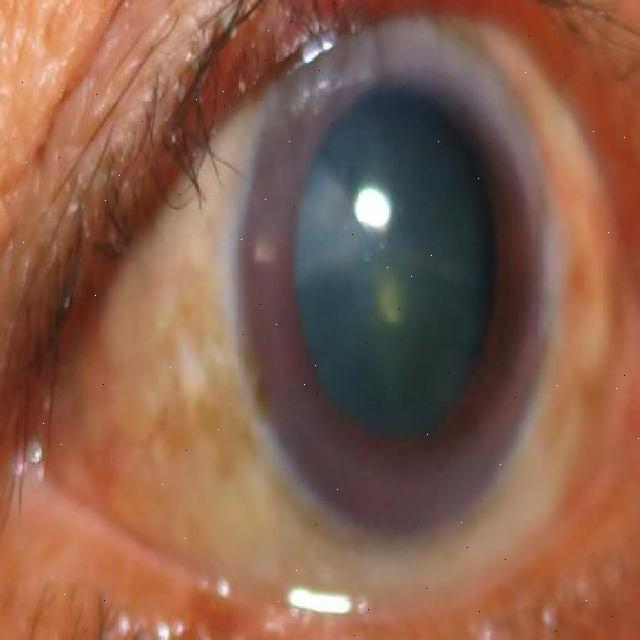Cataract: (234, 2, 563, 535)
